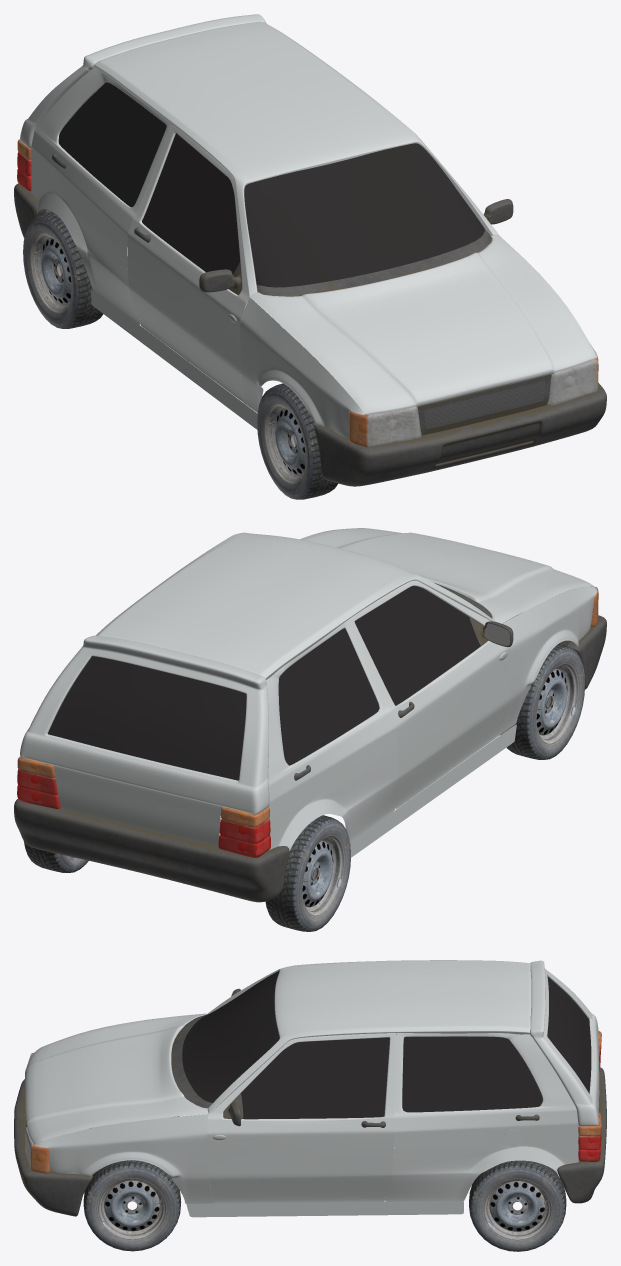
Rendered from fiat_uno_2001.glb.
3 views of the same model, one above another, from view 1: azimuth 30°, elevation 25°; view 2: azimuth 150°, elevation 25°; view 3: azimuth 270°, elevation 25° (orthographic). The views are drawn at different scales.
Visible parts, largest first — view 1: Plano.001, Plano.022, Plano.016, Plano.024, Plano.025, Plano.027, Plano.017, Plano.018, Plano.021, Wheel, Wheel.001, Plano.028 (+8 smaller); view 2: Plano.022, Plano.023, Plano.005, Plano.025, Plano.024, Plano.033, Plano.001, Plano.017, Plano.018, Wheel, Wheel.001, Plano.021 (+3 smaller); view 3: Plano.022, Plano.024, Plano.025, Plano.001, Plano.017, Plano.018, Plano.021, Plano.016, Wheel, Wheel.001, Plano.023, Plano.026 (+7 smaller).
Part boxes in pixels (<box>): Plano.001: <box>250,235,595,414</box>; Plano.022: <box>93,21,499,300</box>; Plano.016: <box>244,143,484,287</box>; Plano.024: <box>127,124,249,401</box>; Plano.025: <box>31,67,171,324</box>; Plano.027: <box>314,383,606,486</box>; Plano.017: <box>142,133,240,274</box>; Plano.018: <box>58,82,166,207</box>; Plano.021: <box>240,297,597,438</box>; Wheel: <box>23,212,103,328</box>; Wheel.001: <box>257,383,337,499</box>; Plano.028: <box>349,356,598,447</box>; Plano.022: <box>96,532,495,679</box>; Plano.023: <box>20,635,269,846</box>; Plano.005: <box>48,656,246,780</box>; Plano.025: <box>266,620,397,850</box>; Plano.024: <box>348,580,510,809</box>; Plano.033: <box>14,799,289,902</box>; Plano.001: <box>300,528,595,623</box>; Plano.017: <box>354,585,480,705</box>; Plano.018: <box>278,628,379,765</box>; Wheel: <box>24,815,350,931</box>; Wheel.001: <box>501,643,585,759</box>; Plano.021: <box>498,586,597,735</box>; Plano.022: <box>207,960,531,1113</box>; Plano.024: <box>207,1033,396,1203</box>; Plano.025: <box>385,1033,578,1201</box>; Plano.001: <box>25,1013,208,1144</box>; Plano.017: <box>240,1037,389,1119</box>; Plano.018: <box>402,1036,542,1112</box>; Plano.021: <box>35,1018,214,1203</box>; Plano.016: <box>182,971,279,1103</box>; Wheel: <box>469,1160,566,1251</box>; Wheel.001: <box>83,1116,181,1251</box>; Plano.023: <box>530,960,599,1126</box>; Plano.026: <box>186,1201,463,1217</box>.
Size of the model in its own units: 1.32 by 1.03 by 2.64.
Materials: 4 (3 with a texture image).
